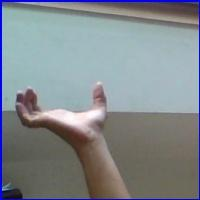space: (14, 82, 112, 148)
